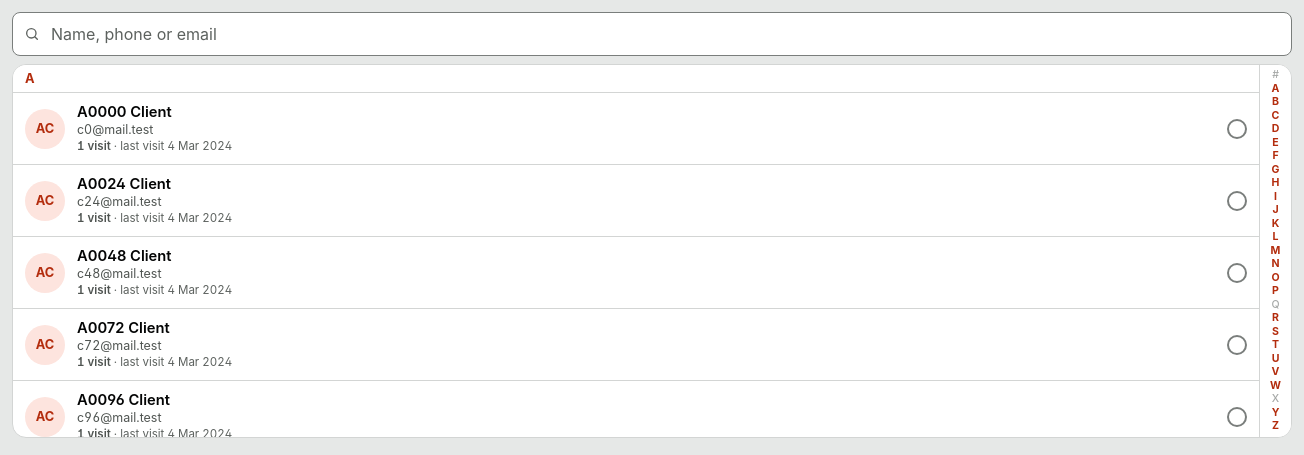
Test: ClientPicker with a large roster › a letter with no clients is labelled so, and jumps to the next letter
This screenshot has width=1304, height=455.
Click the button named "Jump to Q (no clients)" at (1276, 305), box top-left (1260, 298), bottom-right (1291, 312)
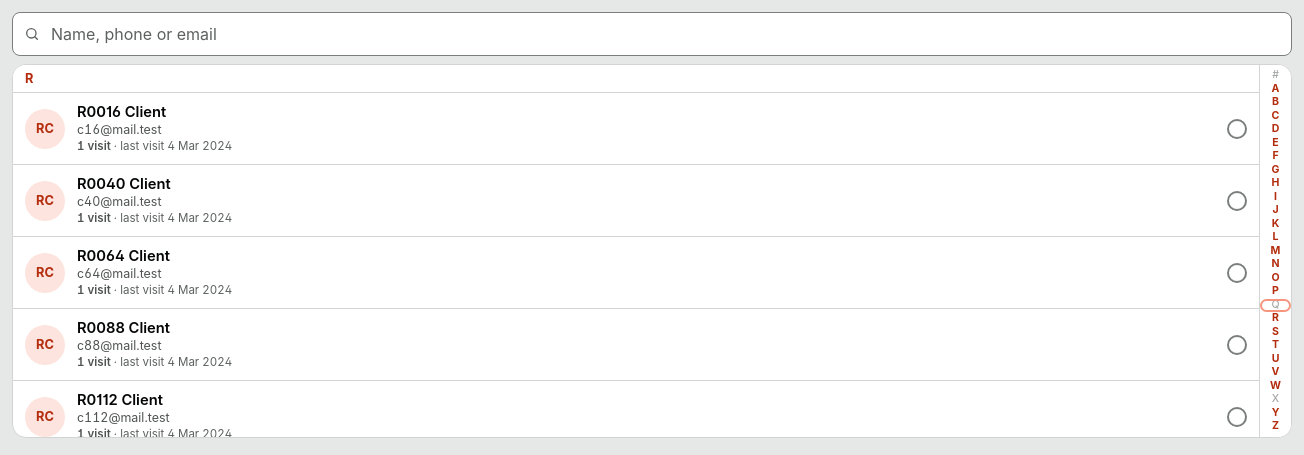
Expected: the text "R0016 Client" is shown, top-left (77, 103), bottom-right (166, 121)
